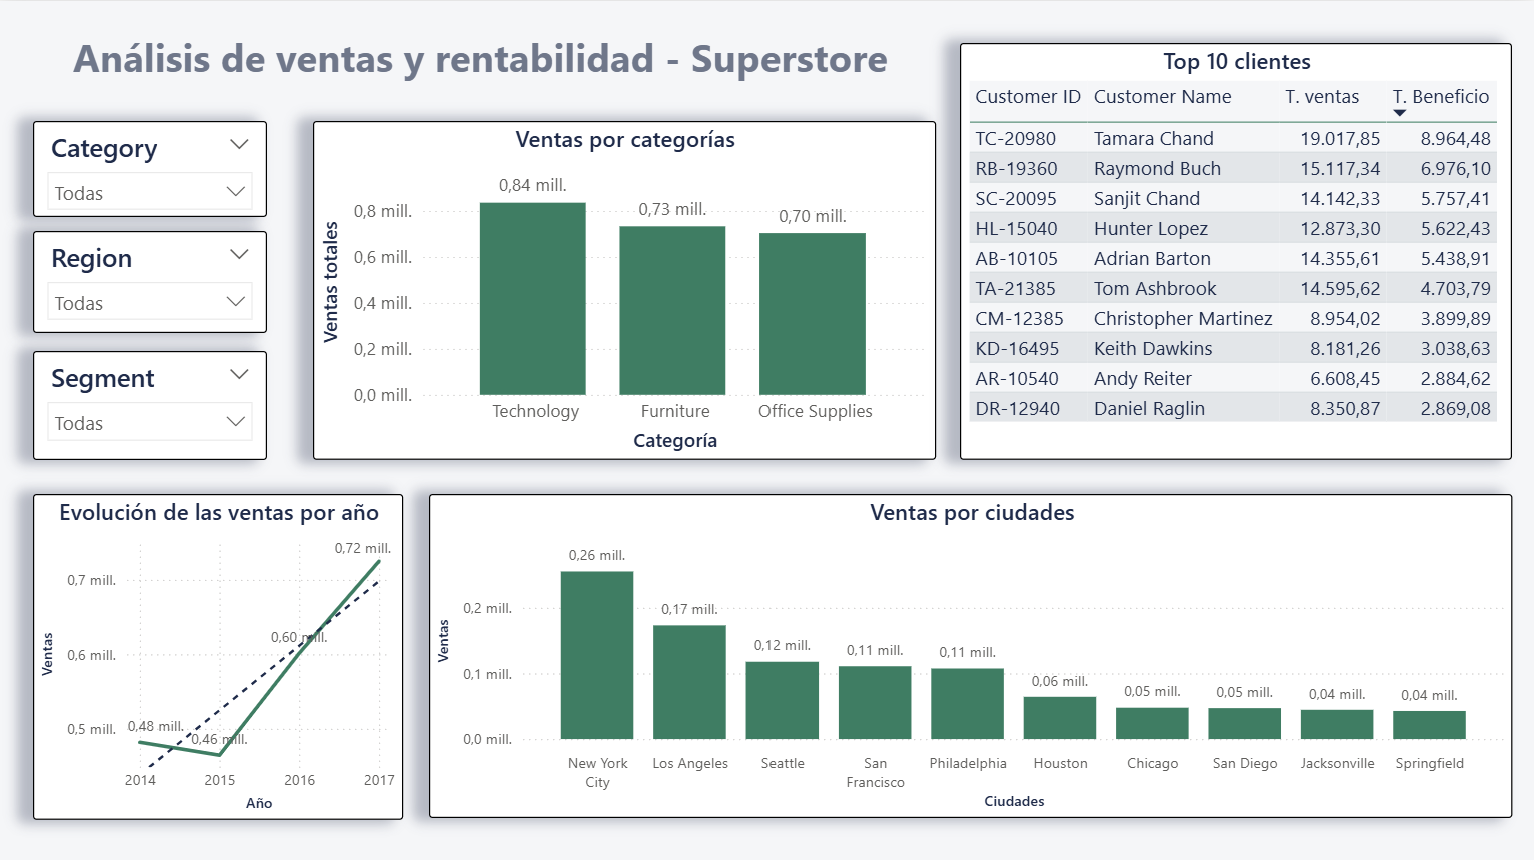

Layout of this report page (visuals, bound fields, positions):
{"tool":"powerbi","page":{"name":"Overview","canvas":[1280,720],"ordinal":0},"visuals":[{"type":"clusteredColumnChart","title":"Ventas por categorías","fields":{"Category":["superstore.Category"],"Y":["Sum(superstore.Sales)"]},"box":[263.3,100,518.3,281.7],"z":0},{"type":"clusteredColumnChart","title":"Ventas por ciudades","fields":{"Category":["superstore.City"],"Y":["Sum(superstore.Sales)"]},"box":[359.6,410.4,902.1,270.2],"z":1000},{"type":"lineChart","title":"Evolución de las ventas por año","fields":{"Category":["superstore.Order Date.Variación.Jerarquía de fechas.Año"],"Y":["Sum(superstore.Sales)"]},"box":[30,410,308.3,271.7],"z":2000},{"type":"tableEx","title":"Top 10 clientes","fields":{"Values":["superstore.Customer ID","superstore.Customer Name","Sum(superstore.Sales)","Sum(superstore.Profit)"]},"box":[801.7,35,460,346.7],"z":3000},{"type":"slicer","fields":{"Values":["superstore.Category"]},"box":[30,100,195,80],"z":4000},{"type":"slicer","fields":{"Values":["superstore.Region"]},"box":[30,191.7,195,85],"z":5000},{"type":"slicer","fields":{"Values":["superstore.Segment"]},"box":[30,291.7,195,90],"z":6000},{"type":"textbox","box":[23.3,20,758.3,68.3],"z":6001}]}

Visuals, with their boxes in screenshot pixels (x1, y1, x2, y2), scaled from the page's 1280x720 canvas onto the 1534x860 screenshot:
"Ventas por categorías" clusteredColumnChart: {"left": 316, "top": 119, "right": 937, "bottom": 456}
"Ventas por ciudades" clusteredColumnChart: {"left": 431, "top": 490, "right": 1512, "bottom": 813}
"Evolución de las ventas por año" lineChart: {"left": 36, "top": 490, "right": 405, "bottom": 814}
"Top 10 clientes" tableEx: {"left": 961, "top": 42, "right": 1512, "bottom": 456}
slicer - superstore.Category: {"left": 36, "top": 119, "right": 270, "bottom": 215}
slicer - superstore.Region: {"left": 36, "top": 229, "right": 270, "bottom": 331}
slicer - superstore.Segment: {"left": 36, "top": 348, "right": 270, "bottom": 456}
textbox: {"left": 28, "top": 24, "right": 937, "bottom": 105}
